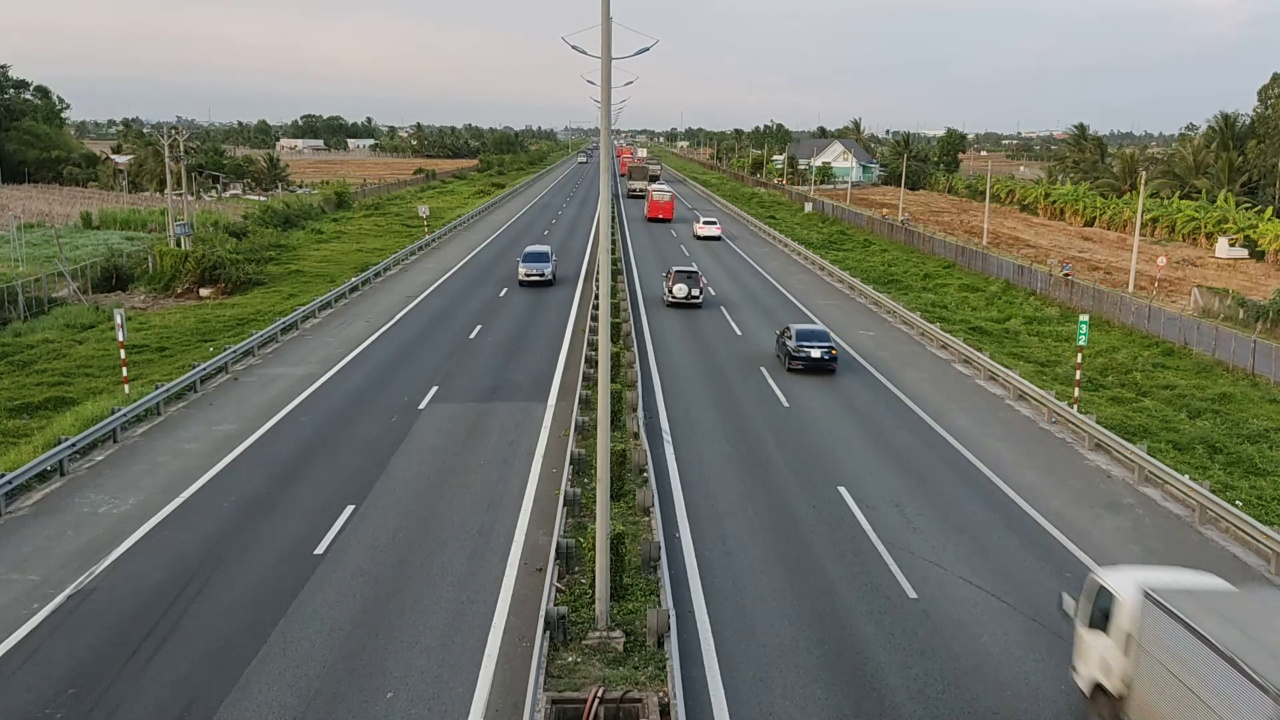car: (772, 321, 839, 373), (661, 265, 705, 308), (516, 244, 558, 285), (692, 215, 722, 239)
truck: (1061, 563, 1277, 717)
